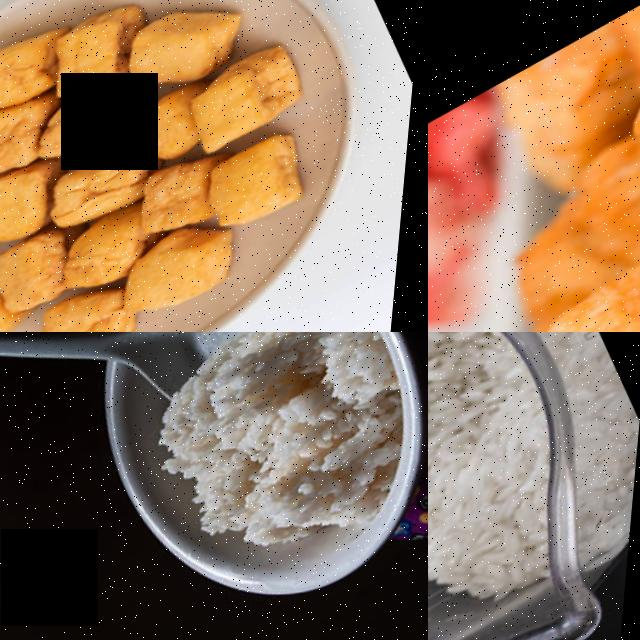tofu: (174, 37, 321, 166), (107, 0, 263, 118), (111, 209, 259, 332), (510, 193, 640, 332), (38, 134, 175, 245), (198, 131, 325, 244), (37, 0, 159, 106), (0, 15, 86, 127), (0, 84, 78, 202), (0, 223, 90, 324), (27, 271, 158, 332)
white rice: (124, 332, 428, 604), (428, 332, 574, 608)
